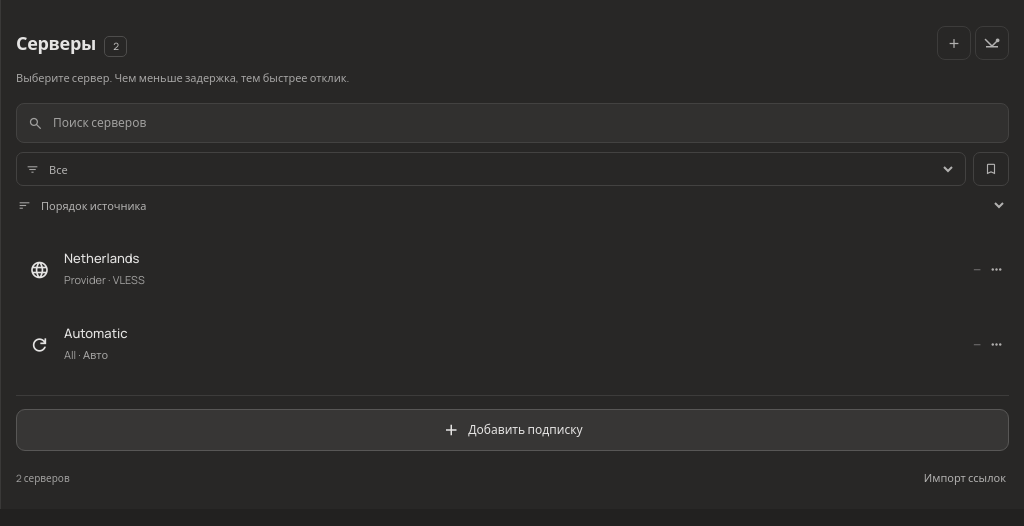
Server list localization and metadata › keeps All independent of the language and of a group named All
Check: the text "Netherlands" is shown, box [64,249,140,267]
Check: the text "Automatic" is shown, box [64,324,128,342]
Select "Provider" in the dropdown named "Фильтр групп серверов" at (500, 169), box [45,161,956,178]
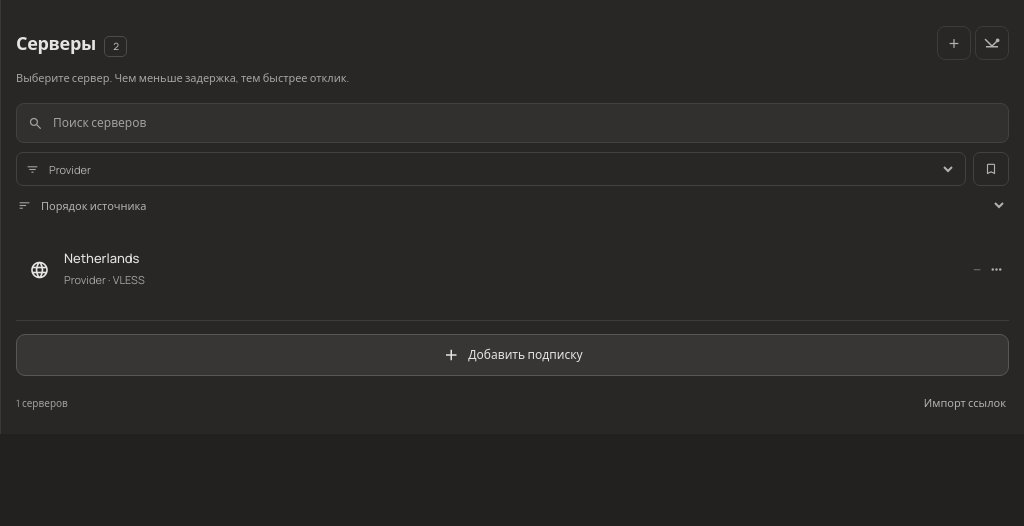
Check: the button "Automatic" is gone
Select "Все" in the dropdown named "Фильтр групп серверов" at (500, 169), box [45,161,956,178]
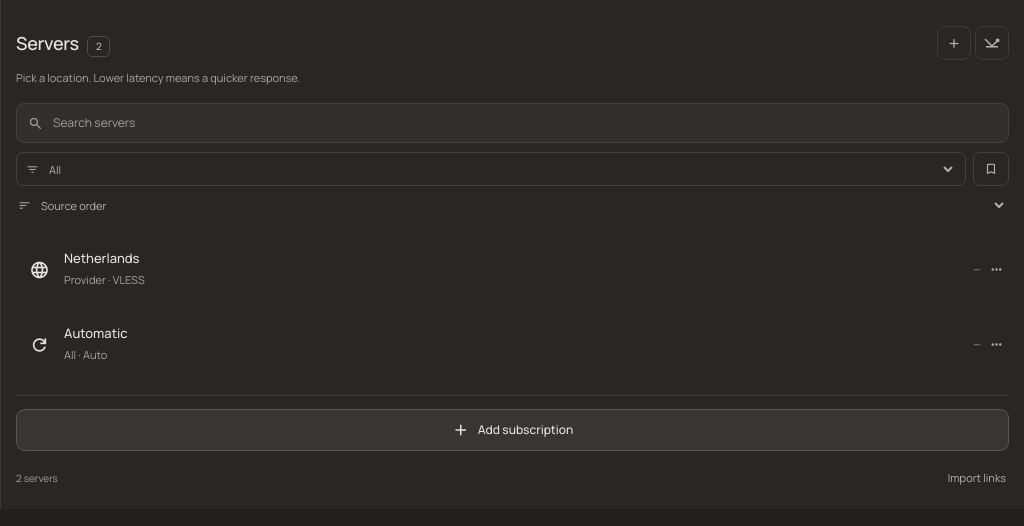
Check: the text "Netherlands" is shown, box [64,249,140,267]
Check: the text "Automatic" is shown, box [64,324,128,342]
